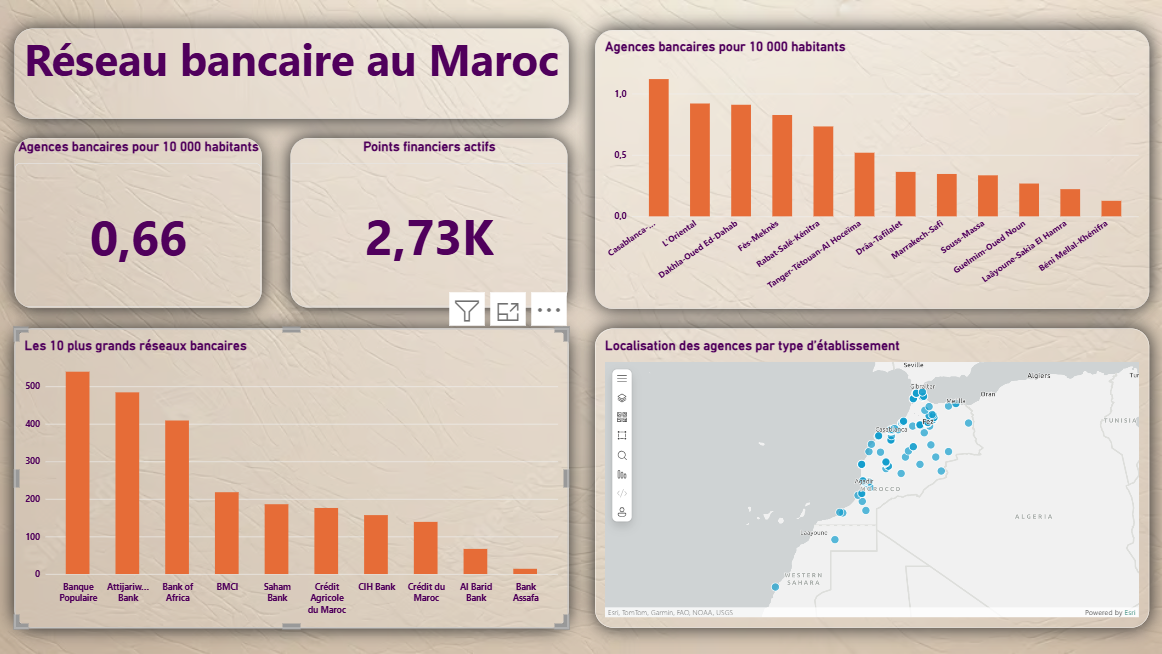

This screenshot's page, from the dashboard's own definition file:
{"tool":"powerbi","page":{"name":"Page 1","canvas":[1920,1080],"ordinal":0},"visuals":[{"type":"cardVisual","title":"Points financiers actifs","fields":{"Data":["fact_agency.Agences actives"]},"box":[482,228.1,456.2,279],"z":0},{"type":"cardVisual","title":"Agences bancaires pour 10 000 habitants","fields":{"Data":["mart_region_kpis.Agences pour 10k hab"]},"box":[27.4,228.1,407.5,279.8],"z":1000},{"type":"clusteredColumnChart","title":"Agences bancaires pour 10 000 habitants","fields":{"Category":["dim_region.region_name"],"Y":["mart_region_kpis.Agences pour 10k hab"]},"box":[982.3,48.7,912.4,459.2],"z":2000},{"type":"columnChart","title":"Les 10 plus grands réseaux bancaires","fields":{"Category":["dim_bank.bank_name"],"Y":["fact_agency.Agences actives"]},"box":[27.4,541.3,912.4,492.7],"z":3000},{"type":"esriVisual","title":"Localisation des agences par type d’établissement","fields":{"Color":["dim_bank.institution_type"],"Latitude":["fact_agency.lat"],"Longitude":["fact_agency.lon"]},"box":[982.3,541.3,912.4,492.7],"z":4000},{"type":"textbox","box":[27,49,408,179],"z":5000},{"type":"textbox","box":[26.4,48,912.8,148.9],"z":6000}]}

Visuals, with their boxes in screenshot pixels (x1, y1, x2, y2), scaled from the page's 1920x1080 canvas onto the 1162x654 screenshot:
"Points financiers actifs" cardVisual: bbox(292, 138, 568, 307)
"Agences bancaires pour 10 000 habitants" cardVisual: bbox(17, 138, 263, 308)
"Agences bancaires pour 10 000 habitants" clusteredColumnChart: bbox(594, 29, 1147, 308)
"Les 10 plus grands réseaux bancaires" columnChart: bbox(17, 328, 569, 626)
"Localisation des agences par type d’établissement" esriVisual: bbox(594, 328, 1147, 626)
textbox: bbox(16, 30, 263, 138)
textbox: bbox(16, 29, 568, 119)
